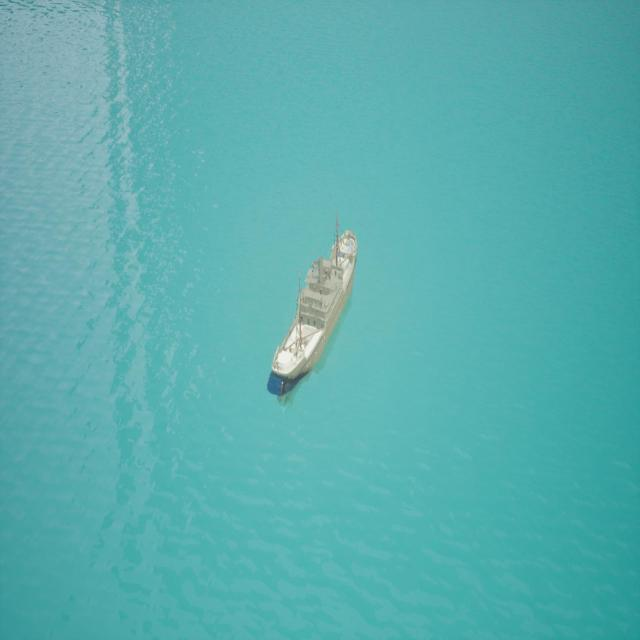fishing ship: (272, 232, 358, 405)
